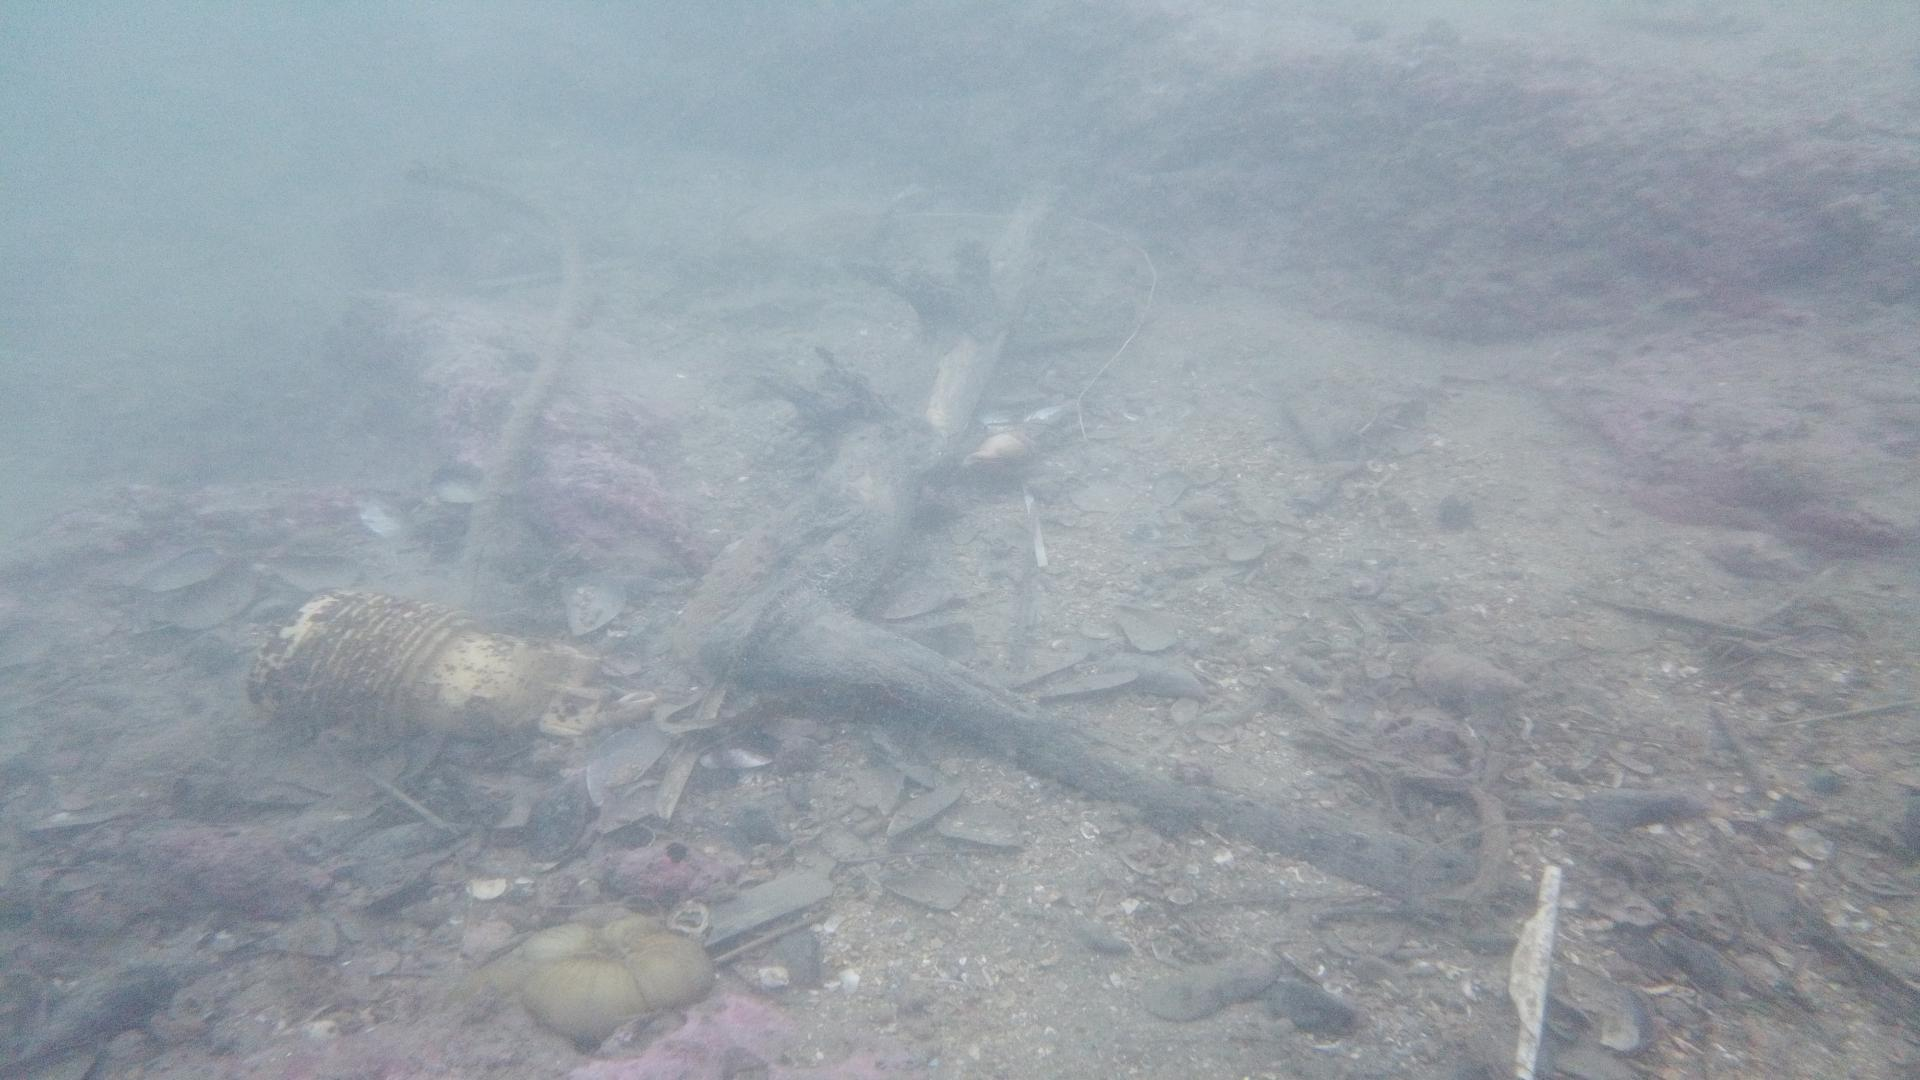rope: (409, 162, 582, 562)
wood: (692, 193, 1481, 909)
